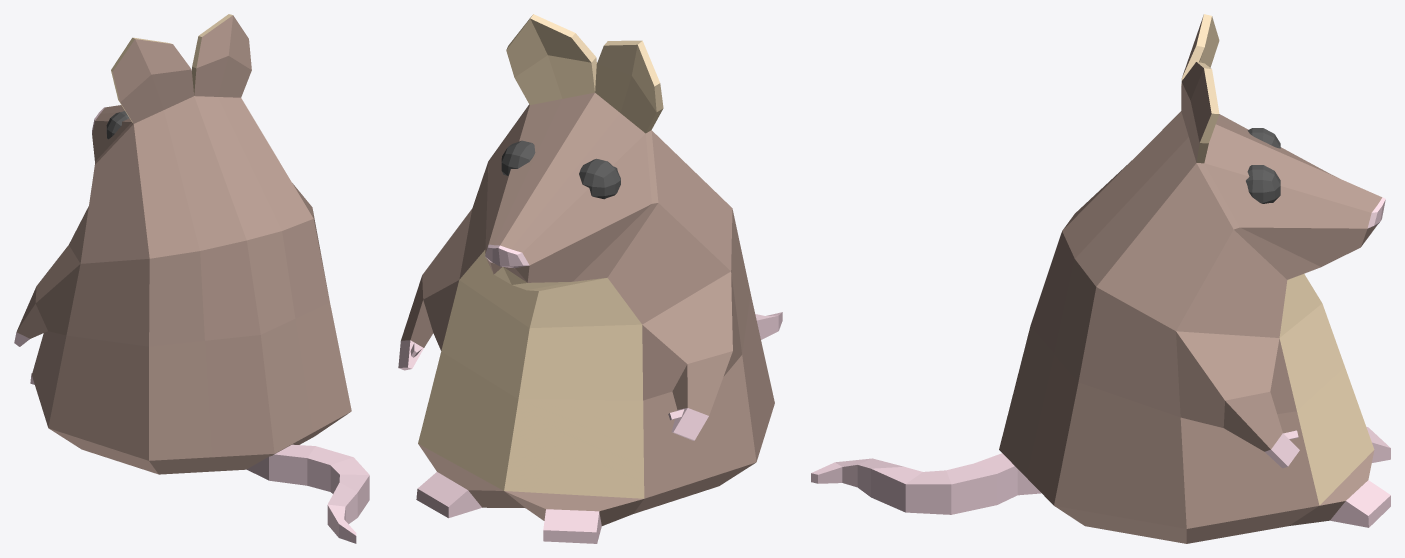
The model's file is Hamster_01.gltf.
3 renders of one model, left to right at view 1: azimuth 30°, elevation 25°; view 2: azimuth 150°, elevation 25°; view 3: azimuth 270°, elevation 25°, orthographic. The views are drawn at different scales.
Parts seen in each view (by area): view 1: node-0; view 2: node-0; view 3: node-0.
Boxes of the visible parts, x1=… form: node-0: x1=14, y1=14, x2=369, y2=543; node-0: x1=398, y1=14, x2=782, y2=543; node-0: x1=811, y1=14, x2=1390, y2=543.
Size of the model in its own units: 6.23 by 8.1 by 9.63.
